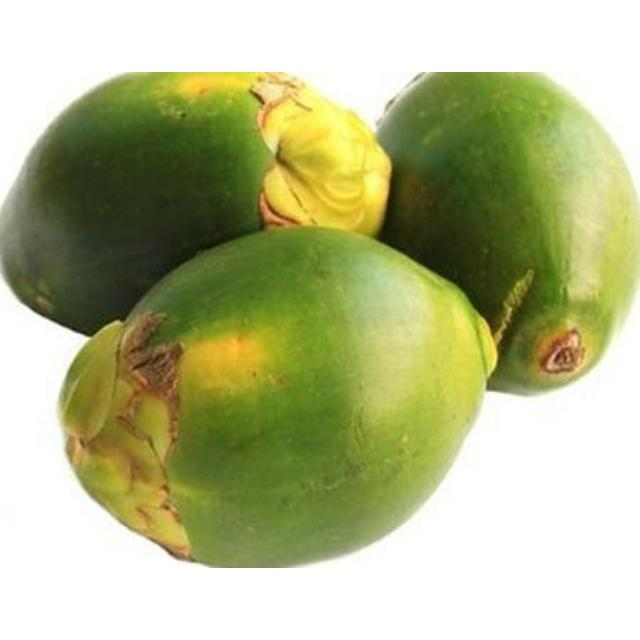good: (57, 227, 495, 567), (3, 72, 393, 339), (374, 72, 639, 398)
